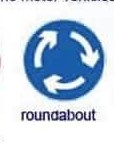Traffic signal: (21, 19, 107, 101)
